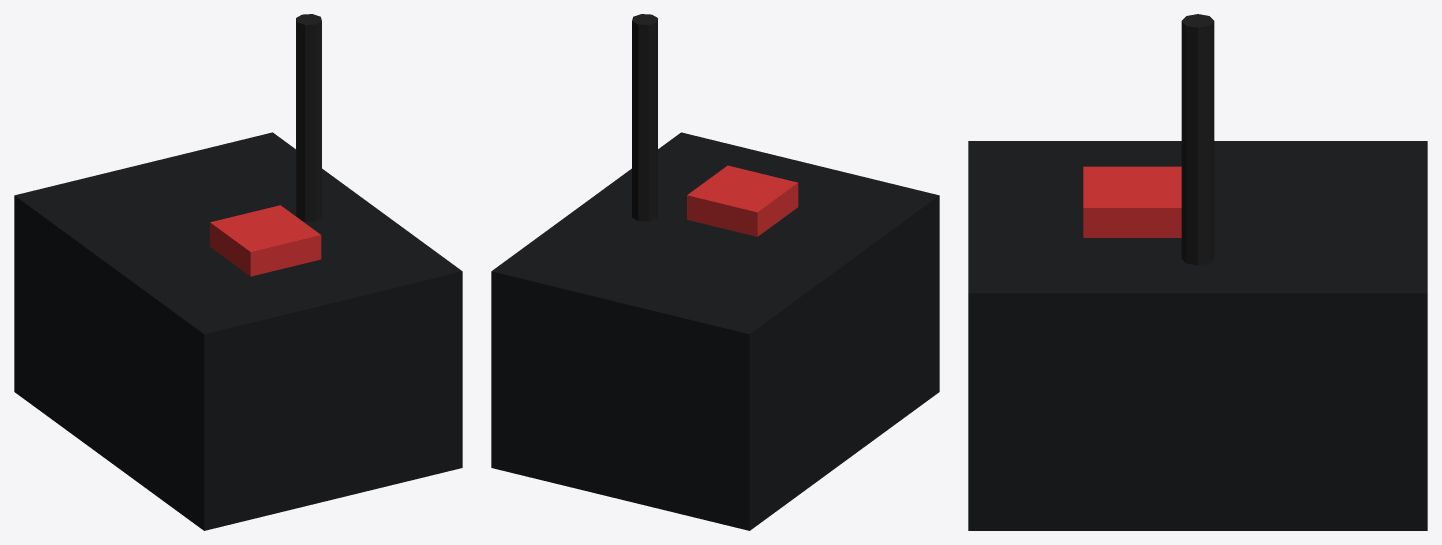
The model's file is g_jammer.glb.
3 views of the same model, side by side, from view 1: azimuth 30°, elevation 25°; view 2: azimuth 150°, elevation 25°; view 3: azimuth 270°, elevation 25° (orthographic). The views are drawn at different scales.
Visible parts, largest first — view 1: body, body_glow; view 2: body, body_glow; view 3: body, body_glow.
Boxes of the visible parts, bbox=[...] form: body: bbox=[14, 14, 462, 530]; body_glow: bbox=[210, 205, 321, 276]; body: bbox=[491, 14, 939, 530]; body_glow: bbox=[687, 165, 798, 236]; body: bbox=[968, 14, 1427, 530]; body_glow: bbox=[1083, 166, 1181, 237].
Size of the model in its own units: 0.11 by 0.16 by 0.14.
